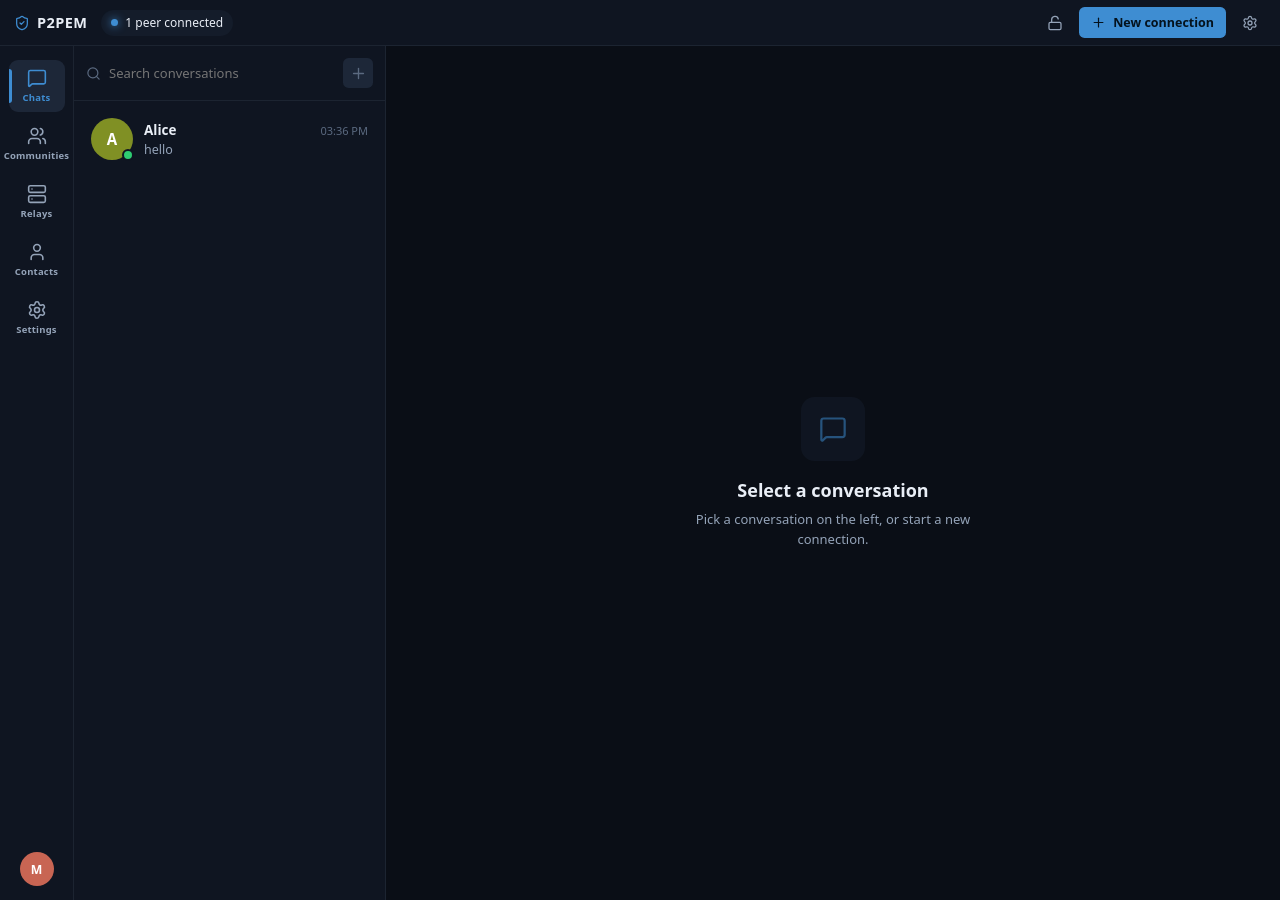
Test: App — landmarks and keyboard access › offers a direct jump to the message box once a conversation is open
Step 1. Click the option "A Alice 03:36 PM hello" → (112, 139), box [81,108,378,170]
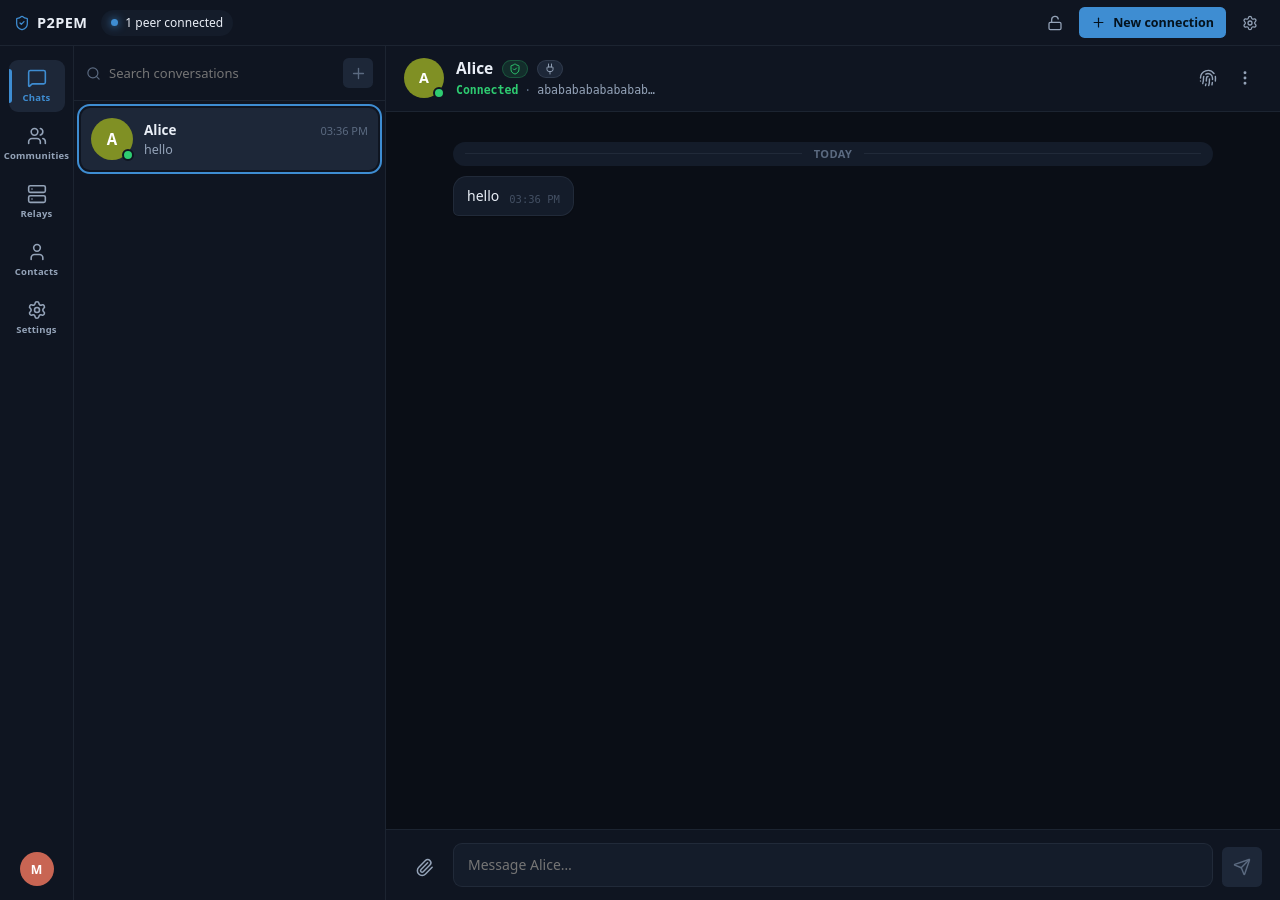
Result: the text box with id "composer-input" is shown at [453,843,1213,887]
